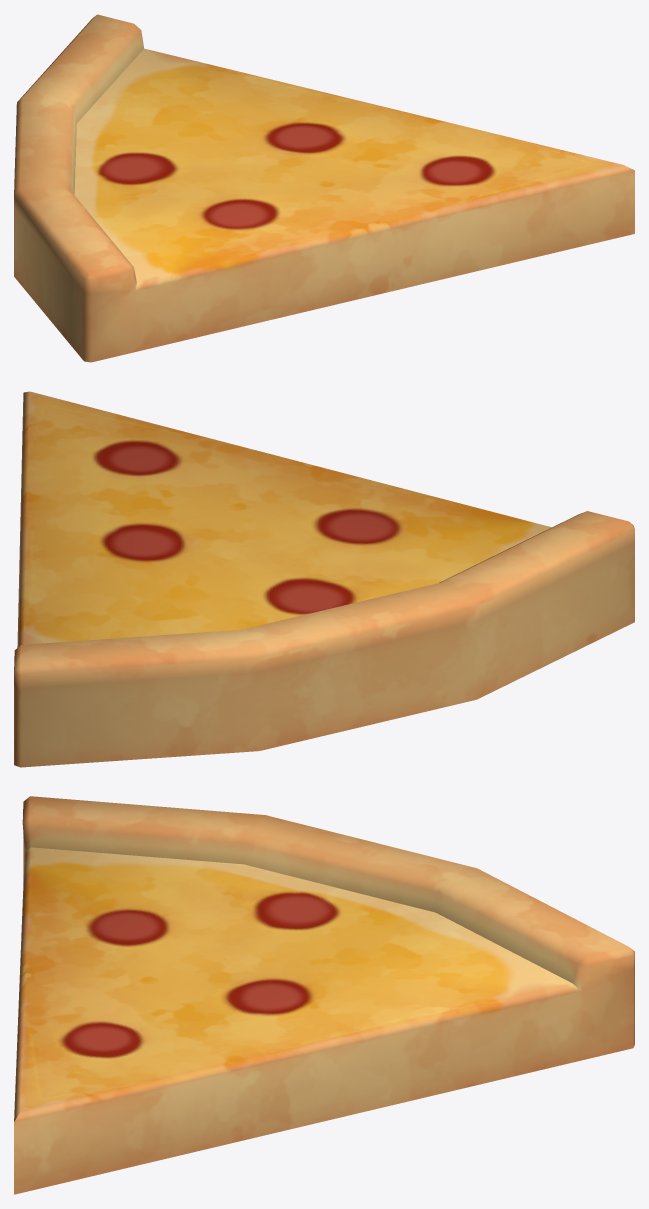
Rendered from PizzaSlice2.fbx.
3 views of the same model, one above another, from view 1: azimuth 30°, elevation 25°; view 2: azimuth 150°, elevation 25°; view 3: azimuth 270°, elevation 25° (orthographic). The views are drawn at different scales.
Visible parts, largest first — view 1: PizzaSlice2; view 2: PizzaSlice2; view 3: PizzaSlice2.
Boxes of the visible parts, x1,y1,x2,y2 form: PizzaSlice2: (14, 14, 634, 362); PizzaSlice2: (14, 391, 634, 767); PizzaSlice2: (14, 796, 634, 1194).
Size of the model in its own units: 99.82 by 15.28 by 86.66.
1 material, 1 textured.
